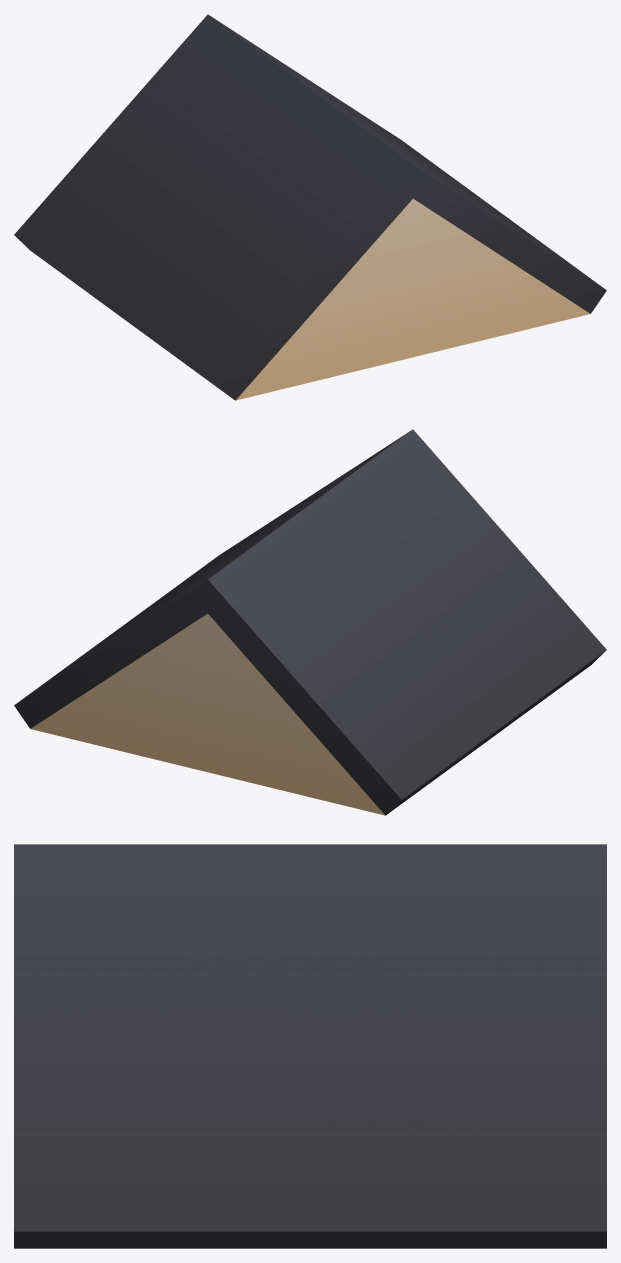
Rendered from roof-gable.glb.
3 renders of one model, top to bottom at view 1: azimuth 30°, elevation 25°; view 2: azimuth 150°, elevation 25°; view 3: azimuth 270°, elevation 25°, orthographic. The views are drawn at different scales.
Visible parts, largest first — view 1: roof-gable; view 2: roof-gable; view 3: roof-gable.
Part boxes in pixels (x1,y1,x2,y2): roof-gable: (14, 14, 606, 400); roof-gable: (14, 429, 606, 815); roof-gable: (14, 844, 606, 1248).
Size of the model in its own units: 1.09 by 0.5188 by 1.
Materials: 1 (1 with a texture image).
